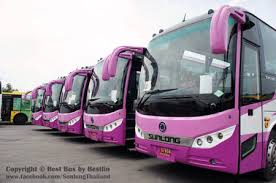bus: (134, 6, 269, 174), (82, 45, 133, 149)
